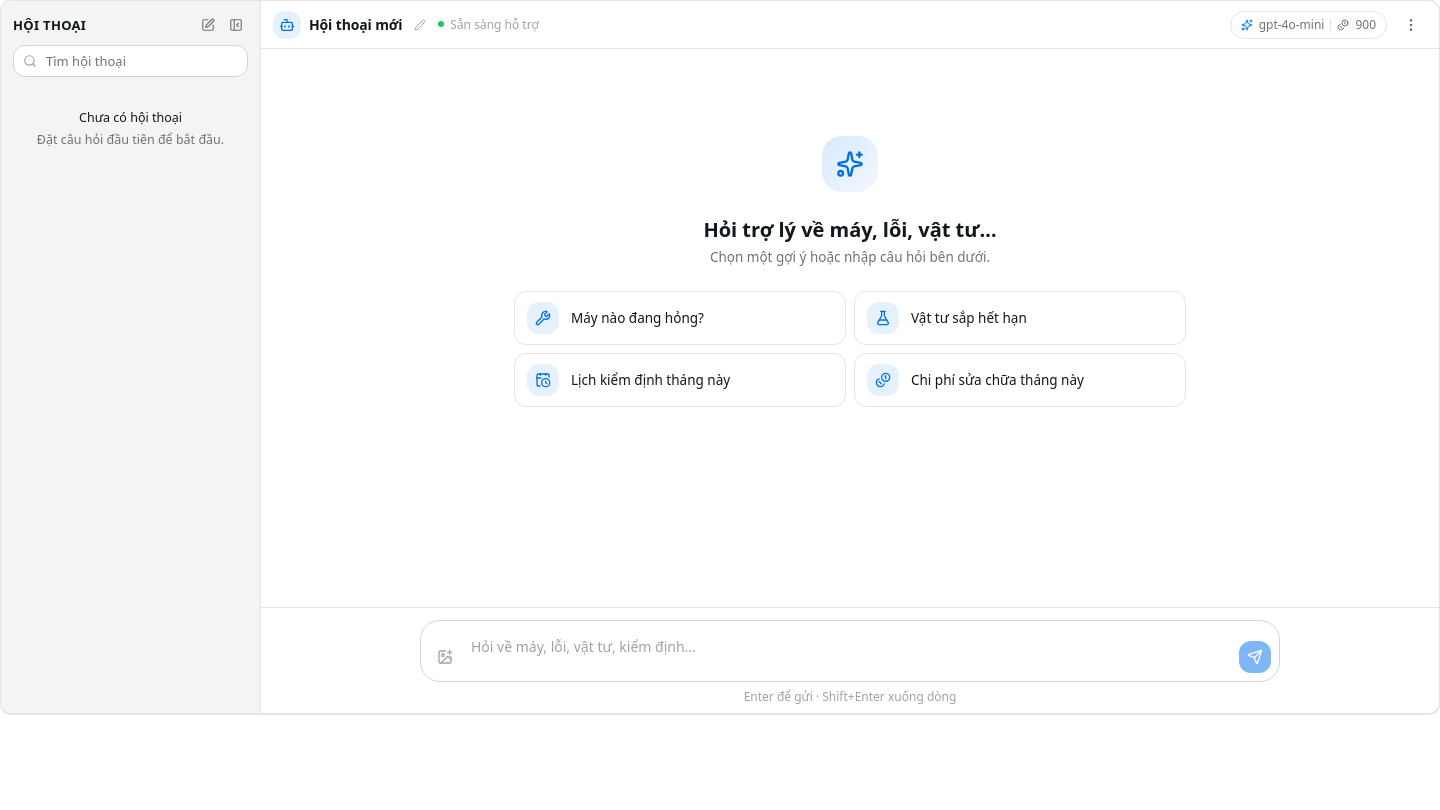
Test case: renders GFM tables in the answer inside a horizontally scrollable wrapper
The image size is (1440, 810).
Type "Liệt kê máy" into the text box named "Câu hỏi" at (850, 651), box [465,629,1235,673]
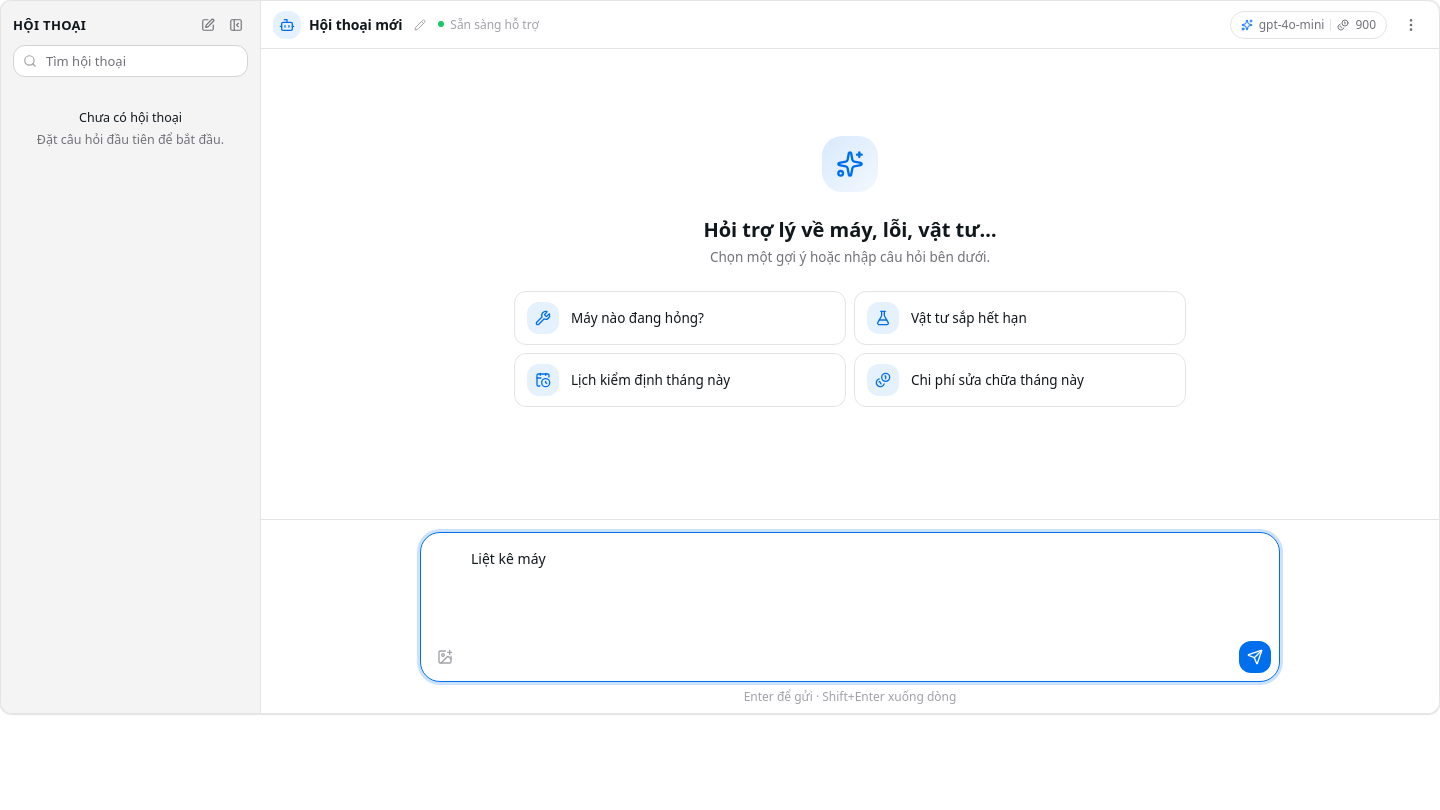
Click the button named "Gửi" at (1255, 657), box [1239,641,1271,673]
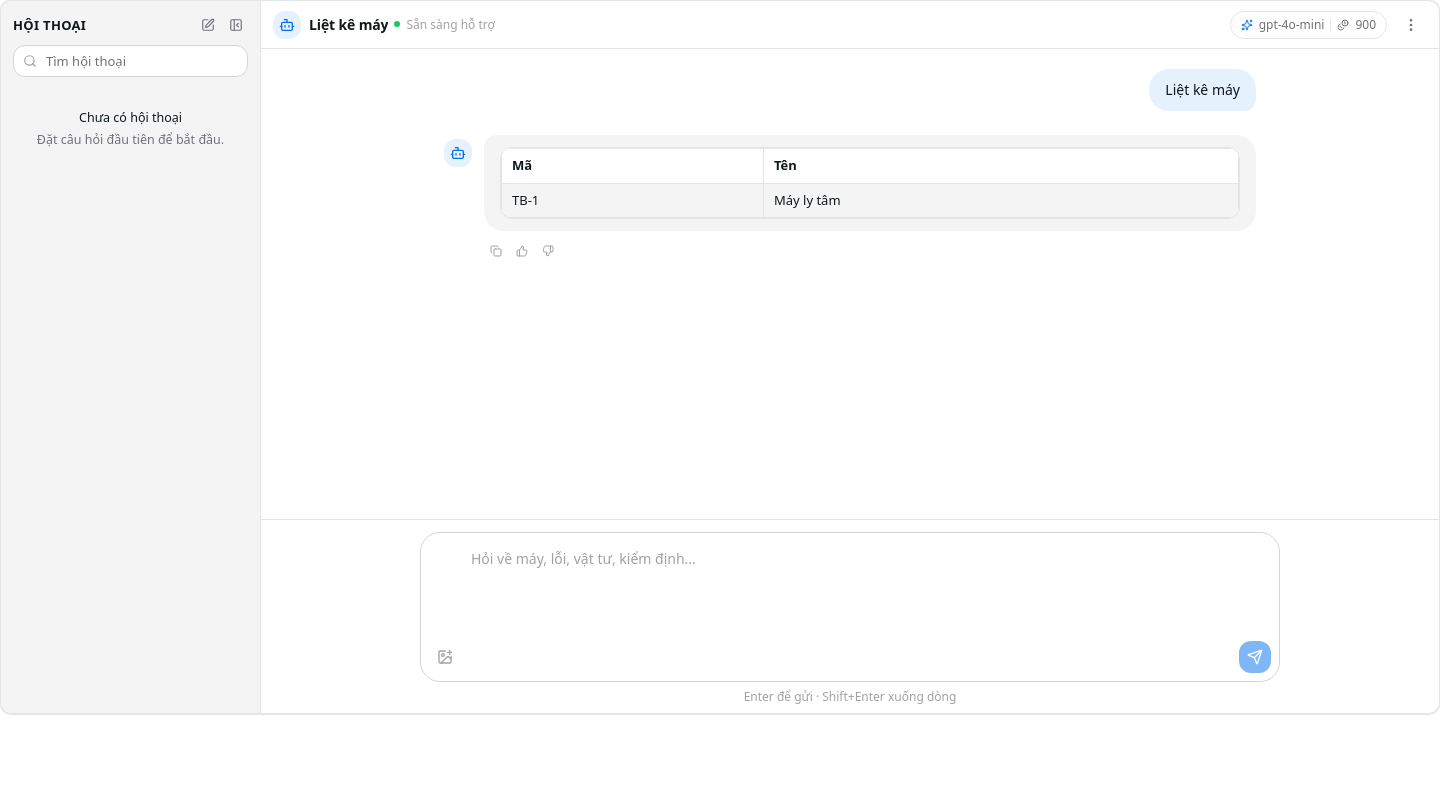
Check: the column heading "Mã" is shown, box [502,149,764,183]
Check: the text "Máy ly tâm" is shown, box [764,183,1238,218]
